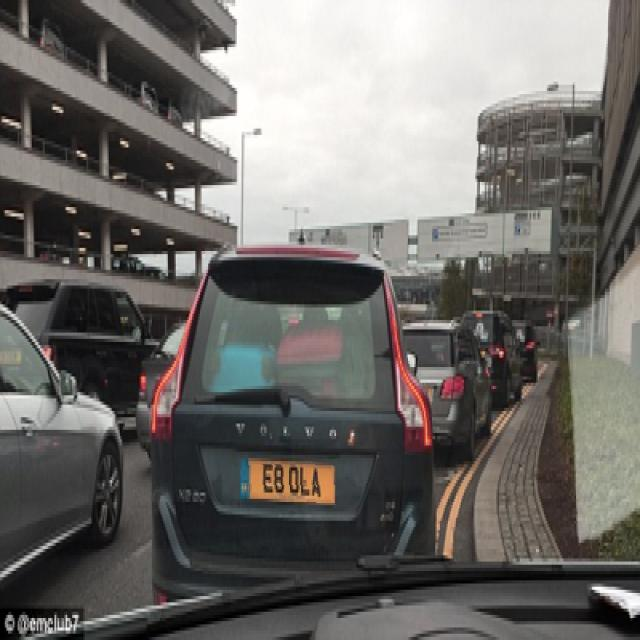licence: (246, 455, 336, 505)
